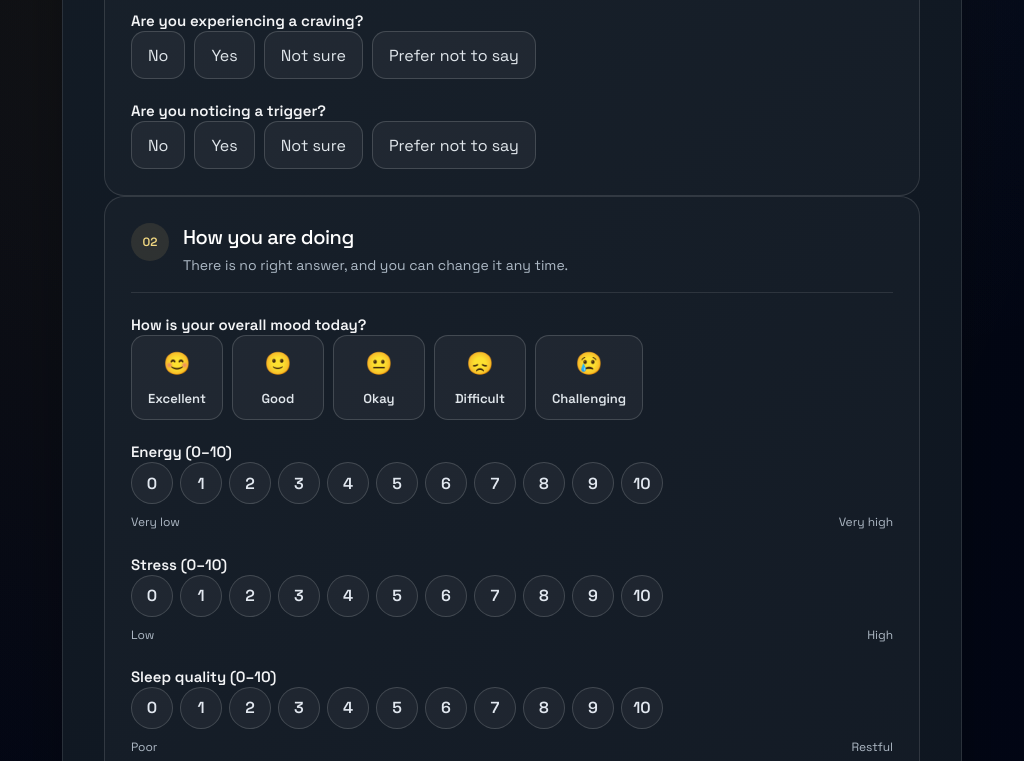
recovery check-in › confirms an ambiguous account save on the server instead of creating a second check-in
(page scrolled)
What coordinates should you click on to do the following:
click the button "😊 Excellent"
I would click on:
 (177, 378)
Its box is left=131, top=335, right=223, bottom=420.
(page scrolled)
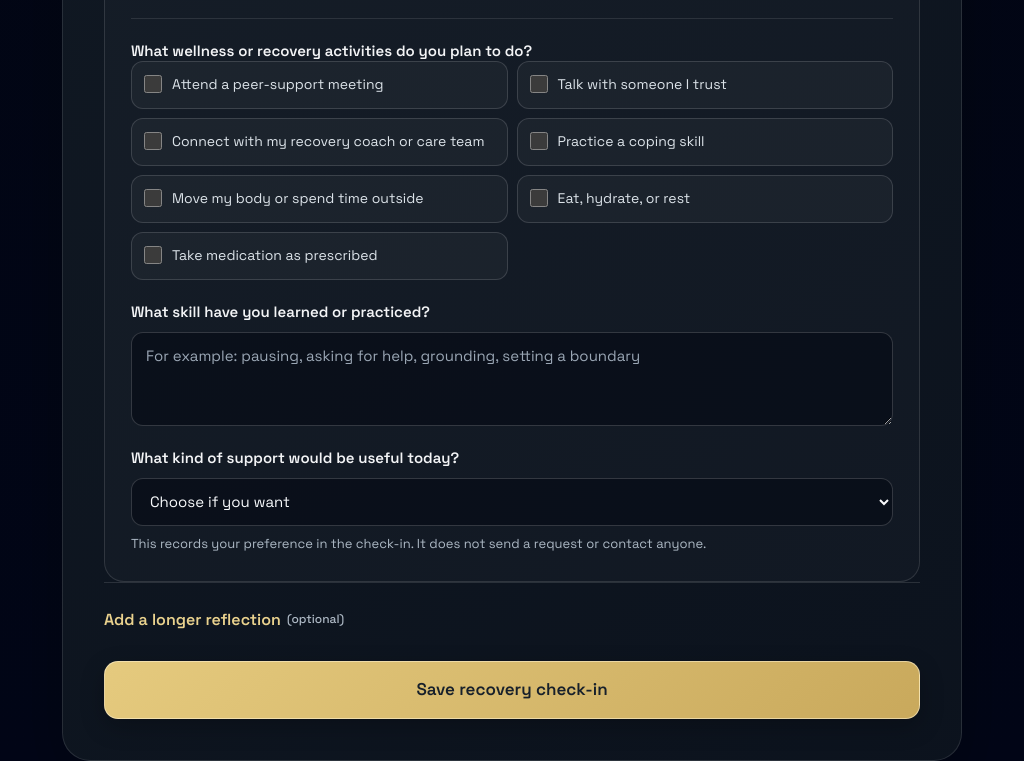
What coordinates should you click on to do the following:
click the button "Save recovery check-in"
I would click on:
 (512, 690)
Its box is left=104, top=662, right=920, bottom=719.
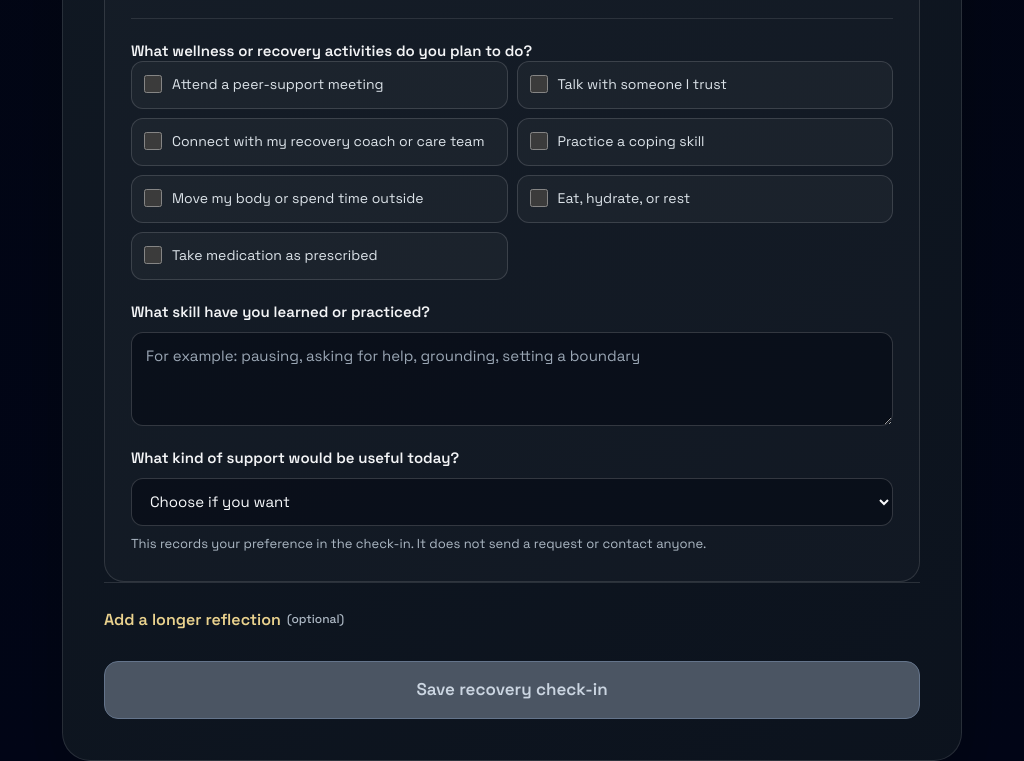
Expected: the button "Save recovery check-in" is disabled, left=104, top=662, right=920, bottom=719
